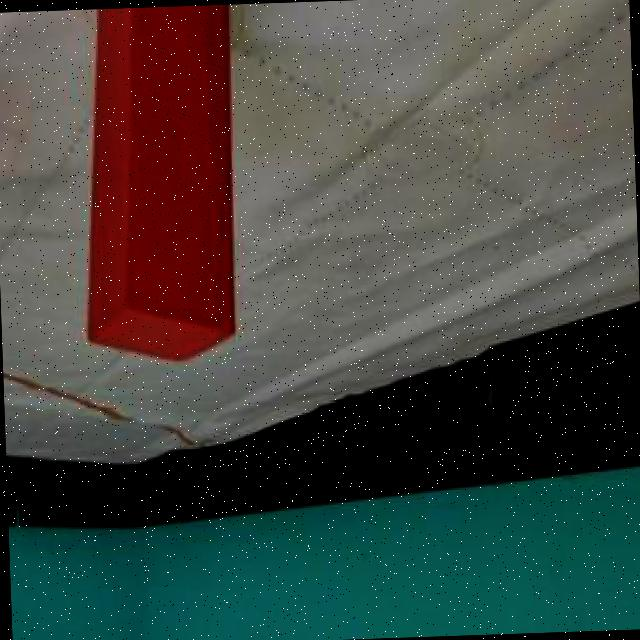redbox: (74, 3, 240, 369)
